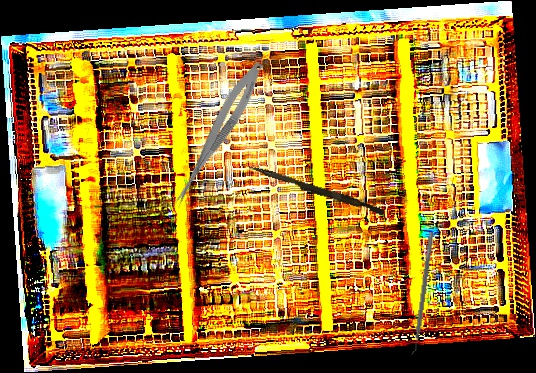Micro Scissor: (167, 57, 269, 214)
Pusher: (246, 164, 386, 216)
Spatula Surgical: (407, 231, 435, 356)
